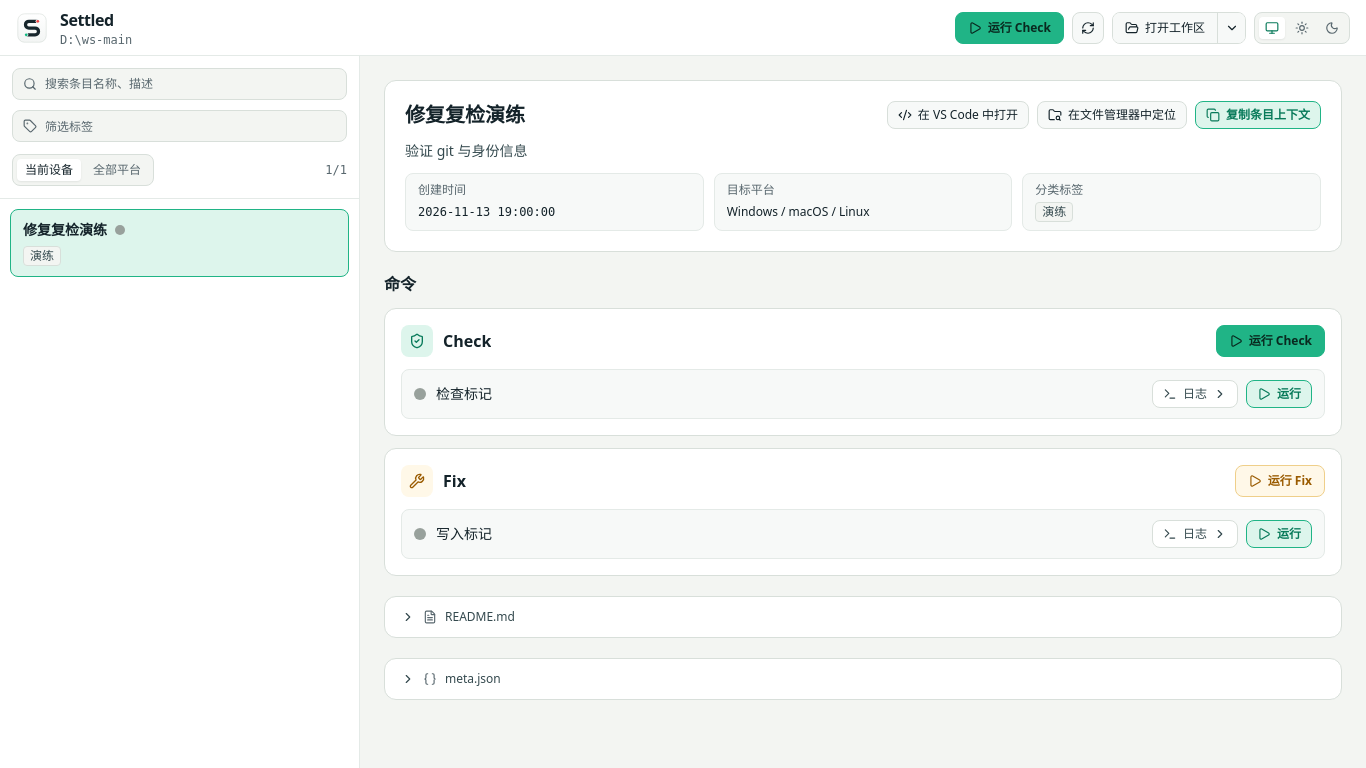
Test: App integration › supports opening another workspace via picker and canceling active runs
Expected: the text "D:\\ws-main" is shown, [60,32,132,48]
Note: Start single check command, then stop it cleanly via Stop button
Step 1. Click the button "运行" in the row of "检查标记" → (1279, 394), box [1246,380,1312,408]
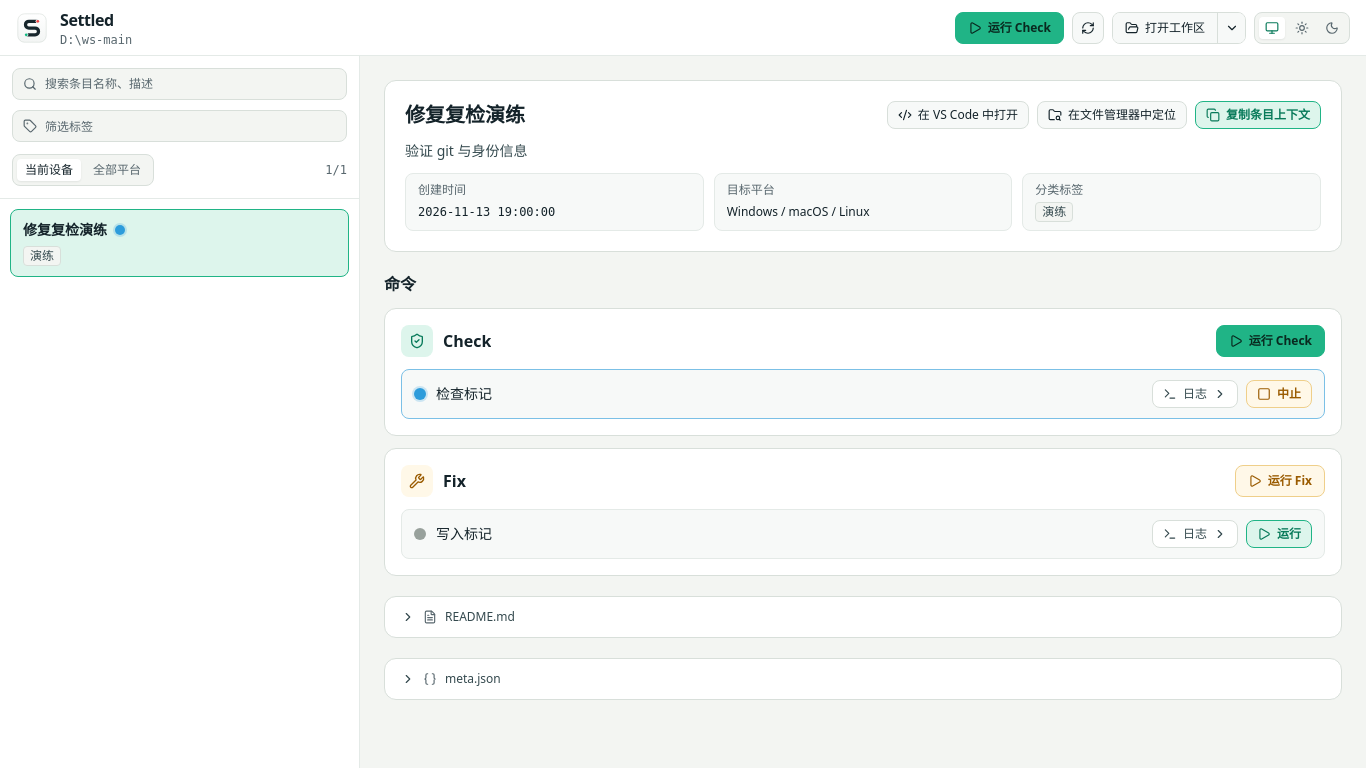
Expected: the text "中止" is shown, [1277,386,1301,402]
Step 2. Click the button "中止" → (1279, 394), box [1246,380,1312,408]
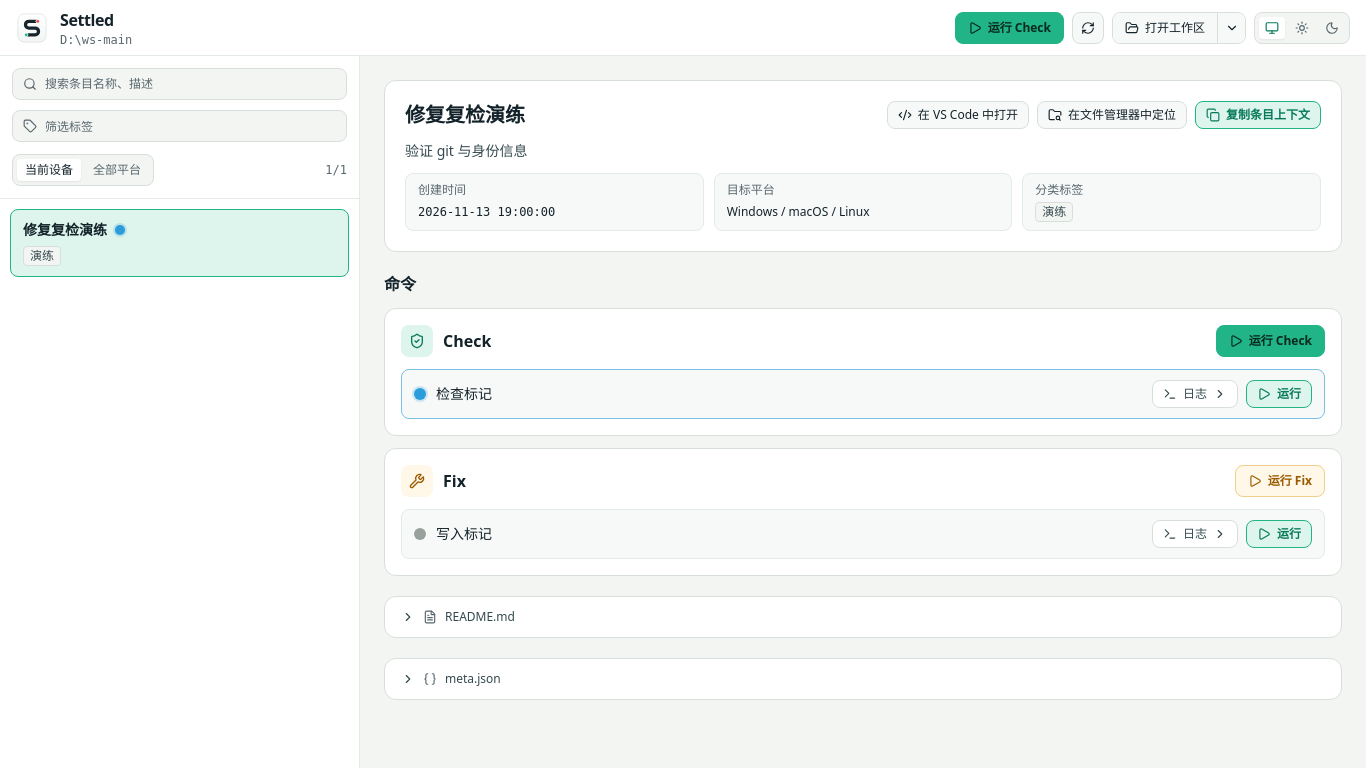
Step 3. Click the button "打开工作区" → (1165, 28), box [1113,12,1217,42]
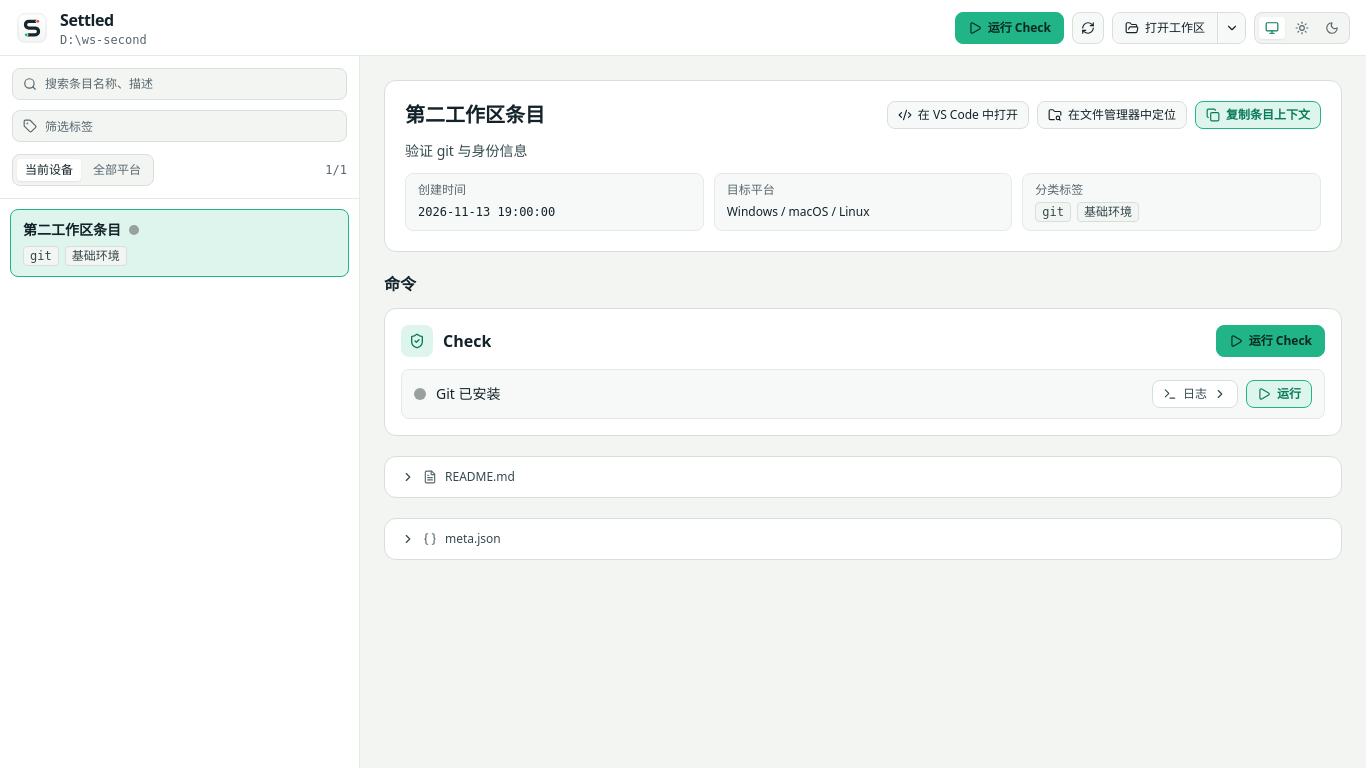
Expected: the text "D:\\ws-second" is shown, [60,32,147,48]
